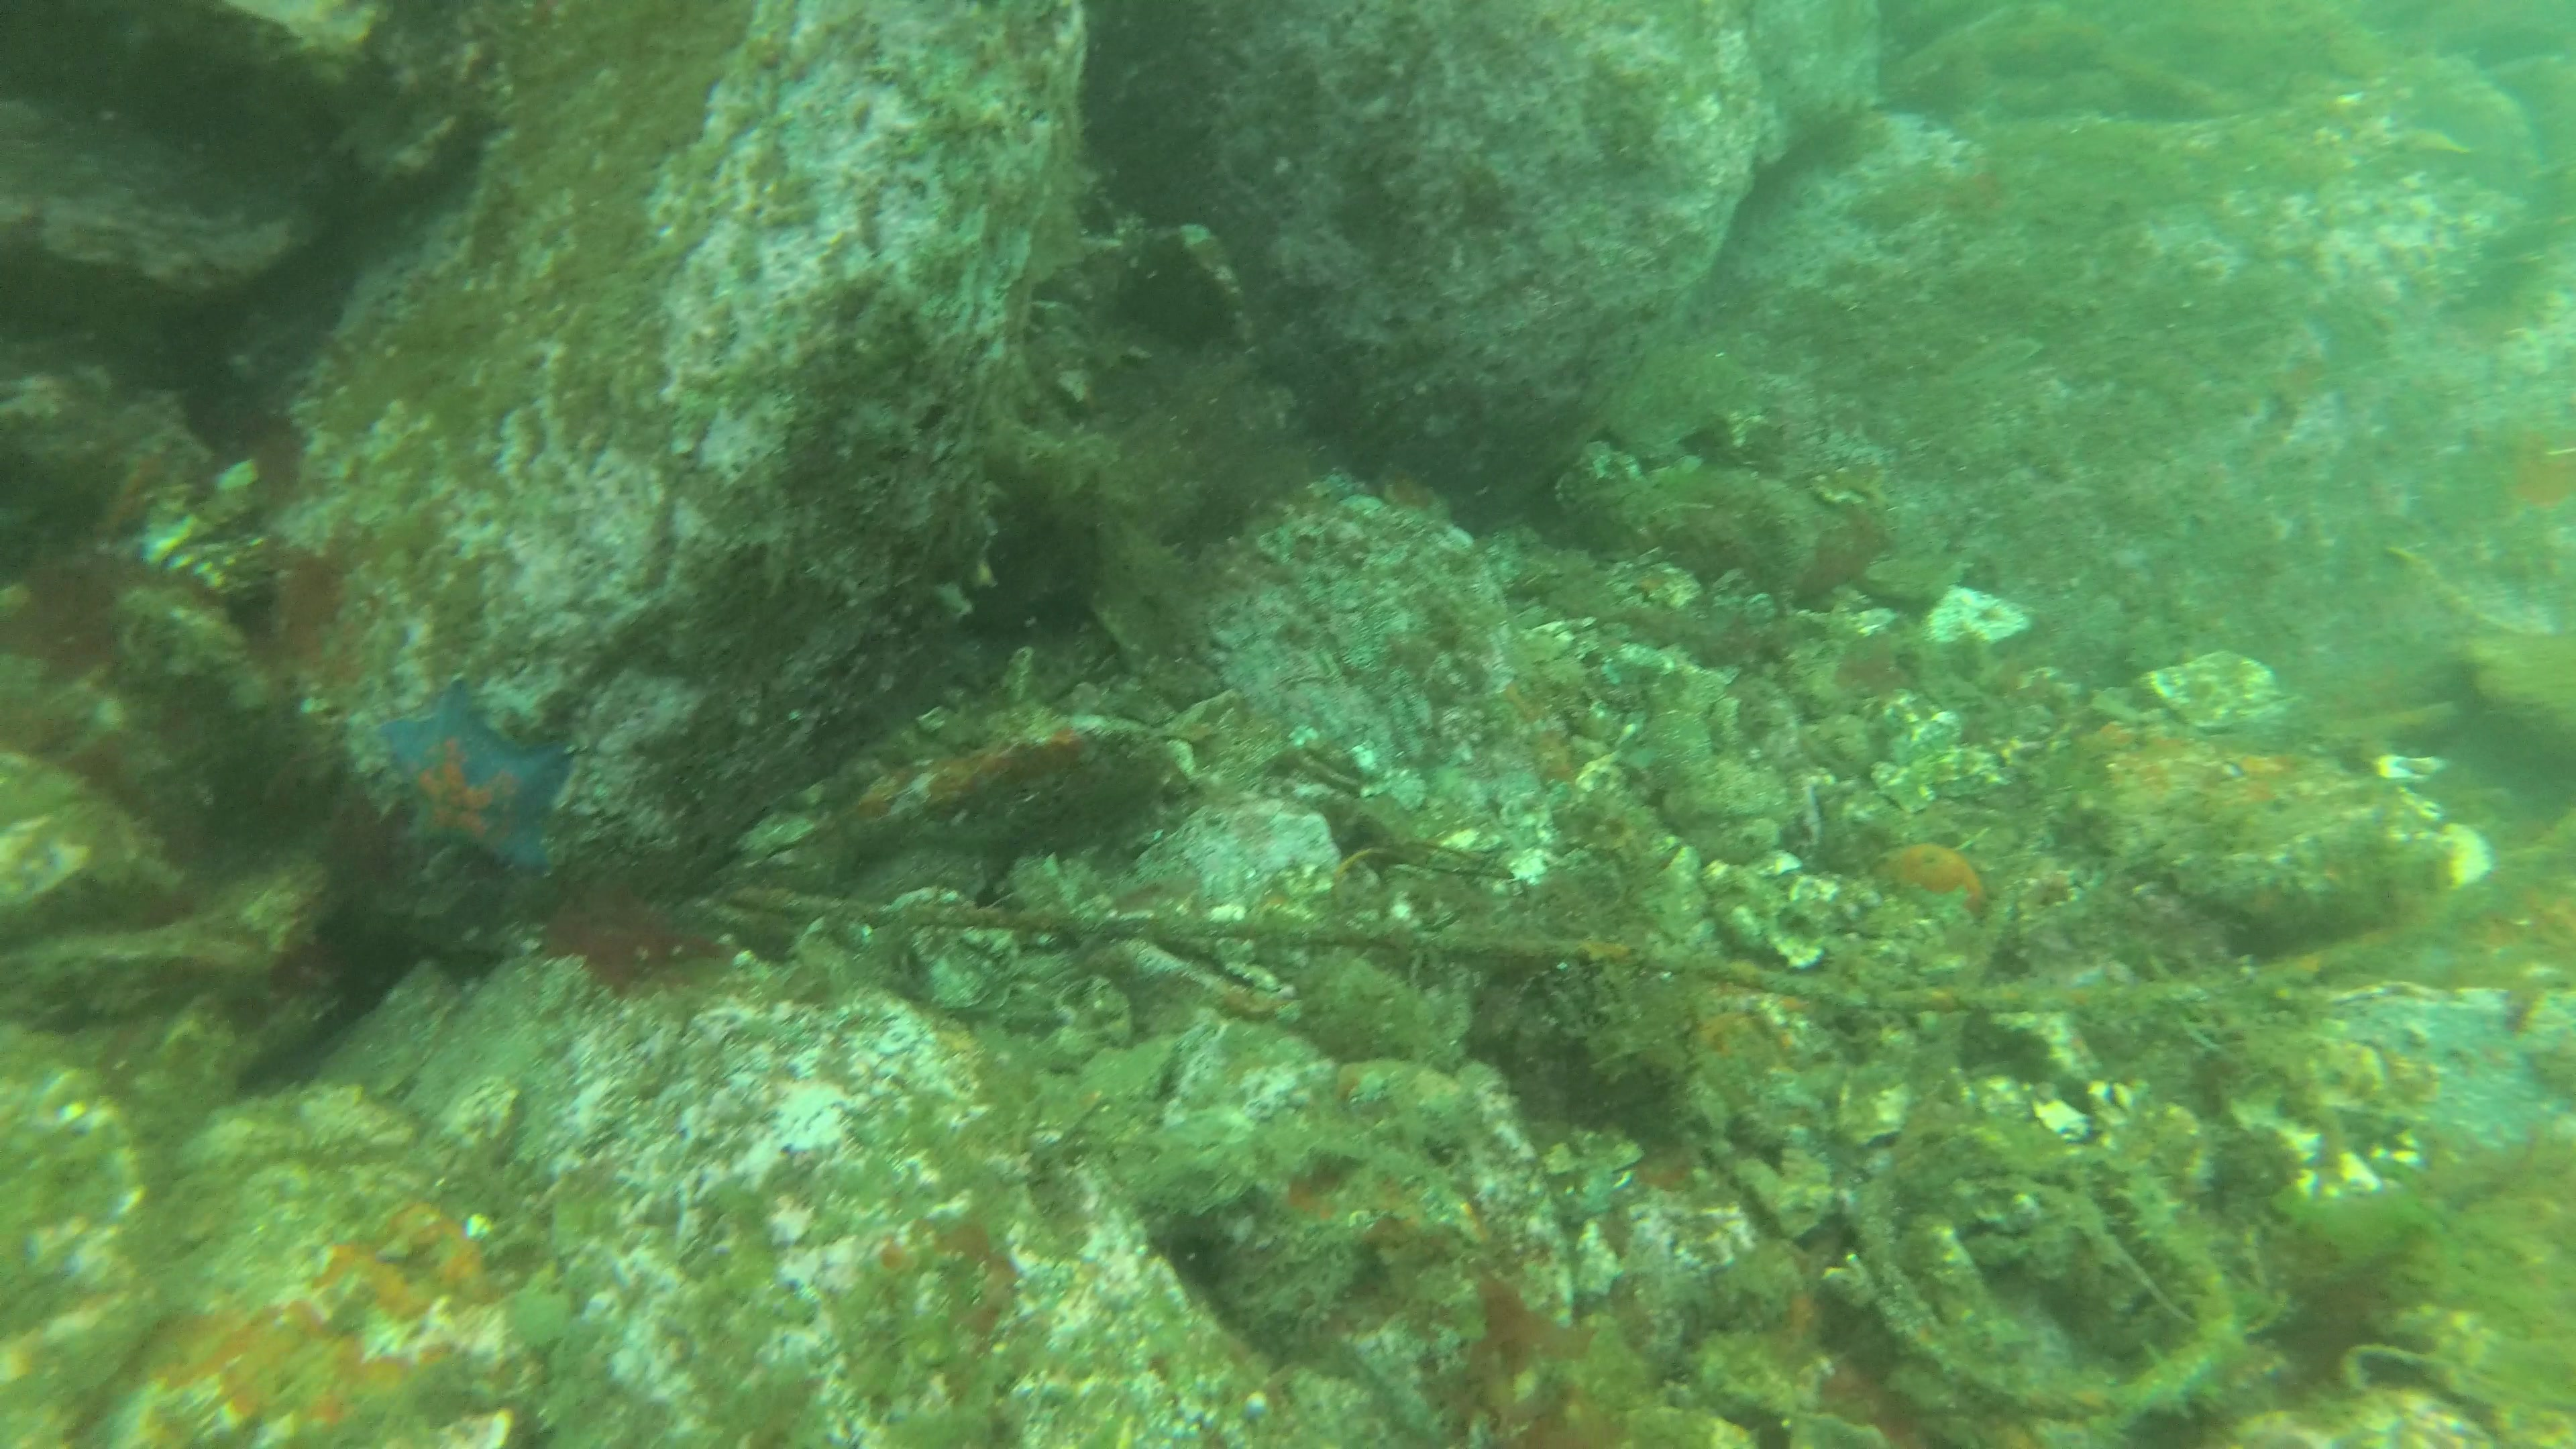starfish: (375, 681, 580, 874)
